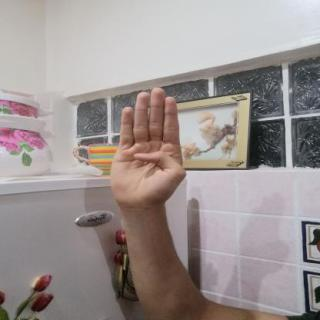KAAF: (102, 82, 196, 216)
